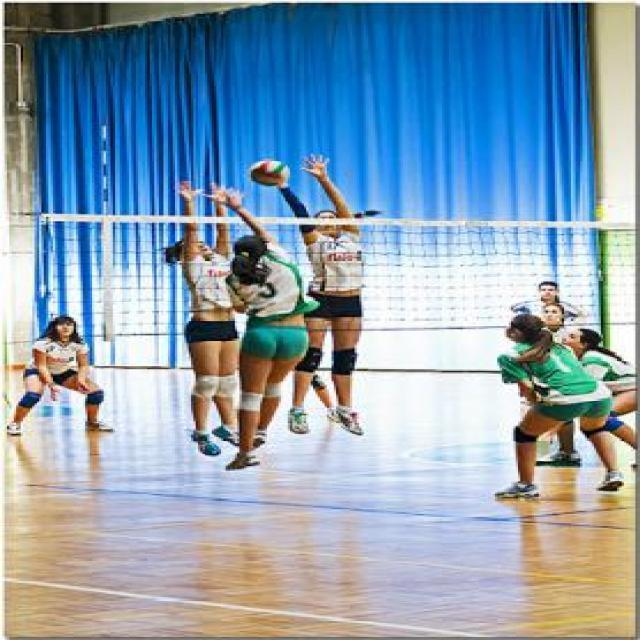volleyball: (250, 158, 290, 186)
